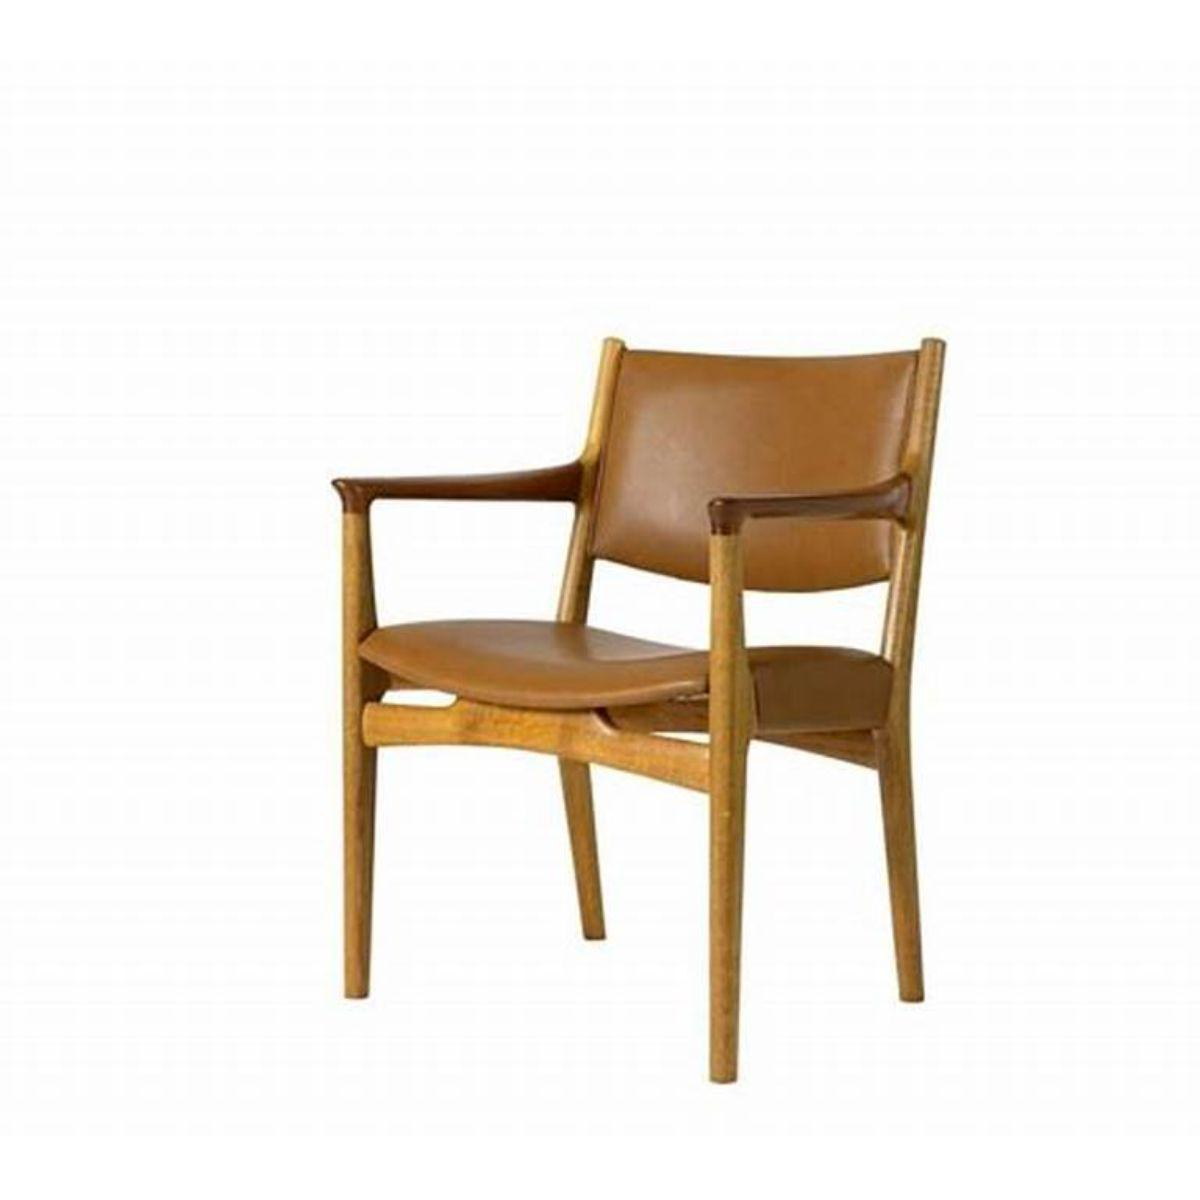Chair: (332, 330, 955, 1081)
